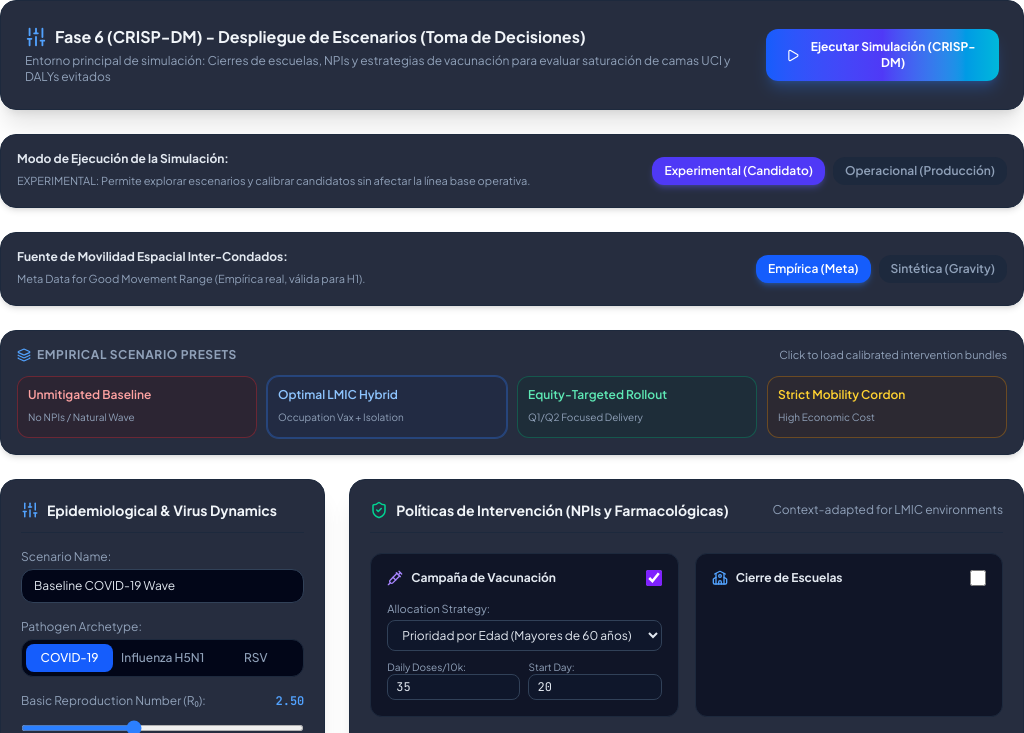
Test: SimulationControls Component › renders mobility controls and toggles synthetic warning banner
Note: Click synthetic button
What coordinates should you click on to do the following:
click the button with id "btn_mobility_synthetic"
I would click on:
 (943, 269)
Its box is [878, 255, 1007, 283].
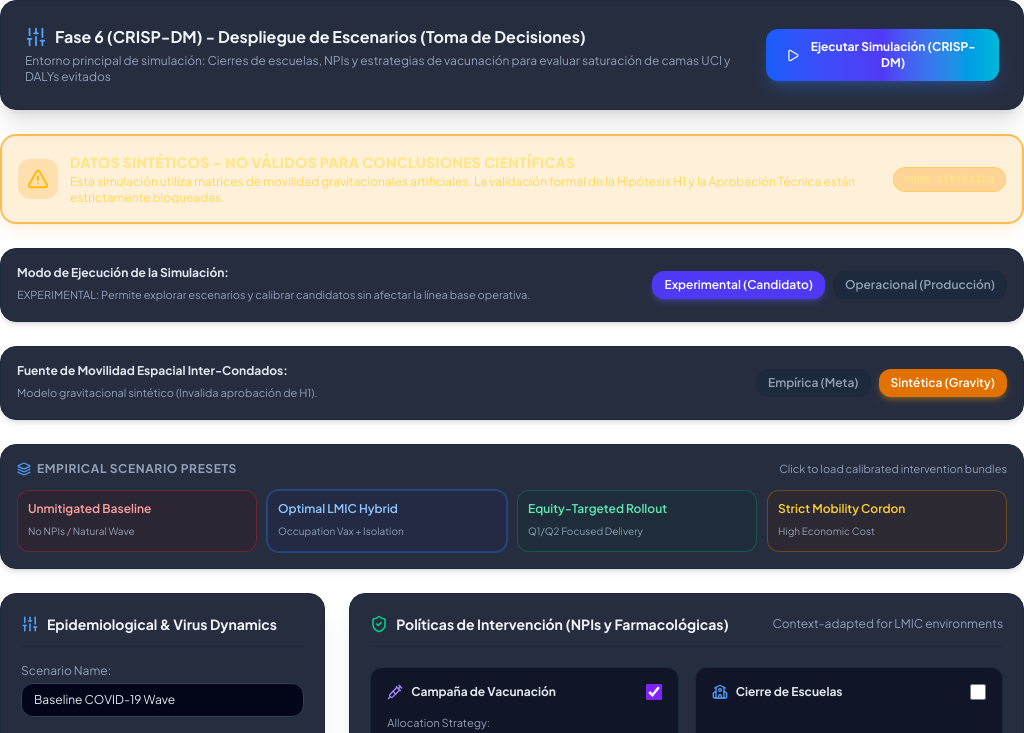
Now the element with id "banner_synthetic_data_warning" is shown, box [0, 134, 1023, 224]
Now the heading "DATOS SINTÉTICOS – NO VÁLIDOS PARA CONCLUSIONES CIENTÍFICAS" is shown, box [70, 153, 575, 171]
Note: Click empirical button
What coordinates should you click on to do the following:
click the button with id "btn_mobility_empirical"
I would click on:
 (813, 383)
Its box is [756, 369, 871, 397].
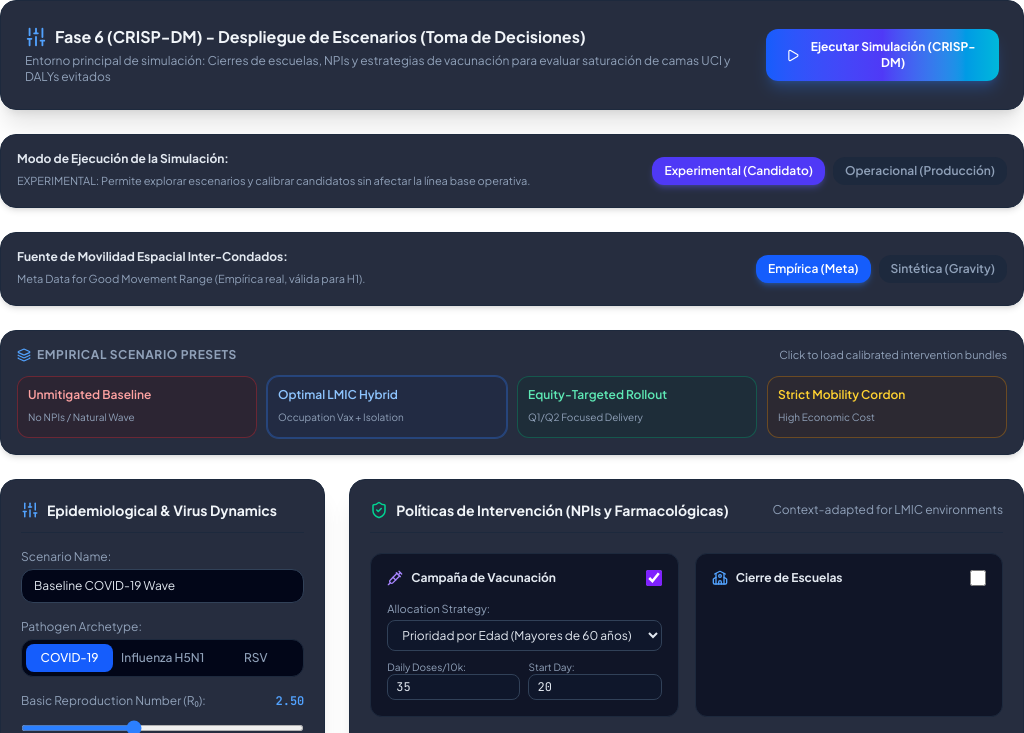
Now the element with id "banner_synthetic_data_warning" is gone
